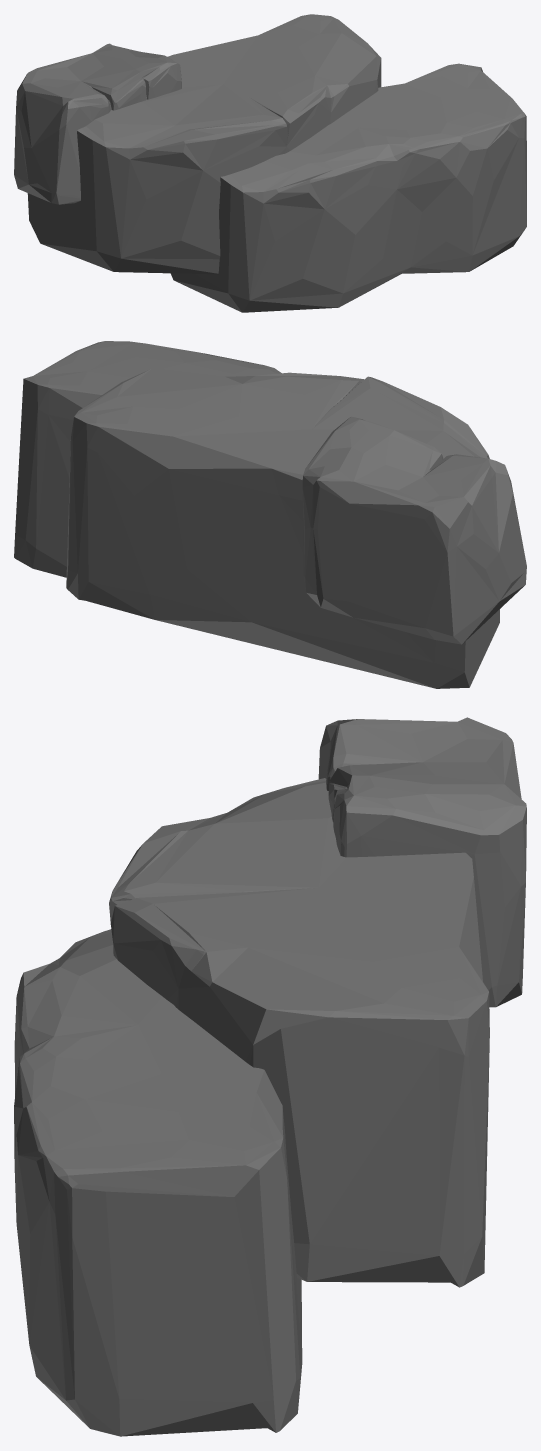
The model's file is Rock_005.glb.
3 renders of one model, top to bottom at view 1: azimuth 30°, elevation 25°; view 2: azimuth 150°, elevation 25°; view 3: azimuth 270°, elevation 25°, orthographic. The views are drawn at different scales.
Visible parts, largest first — view 1: Rock_005; view 2: Rock_005; view 3: Rock_005.
Boxes of the visible parts, x1,y1,x2,y2 form: Rock_005: [14, 14, 526, 312]; Rock_005: [14, 341, 526, 688]; Rock_005: [14, 717, 526, 1436].
Size of the model in its own units: 7.6 by 3.55 by 4.29.
1 material, 1 textured.
